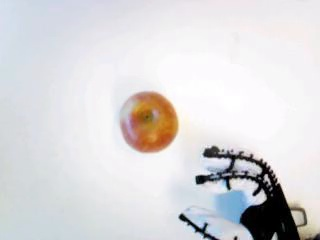apple: (119, 89, 178, 153)
hand: (180, 146, 303, 240)
